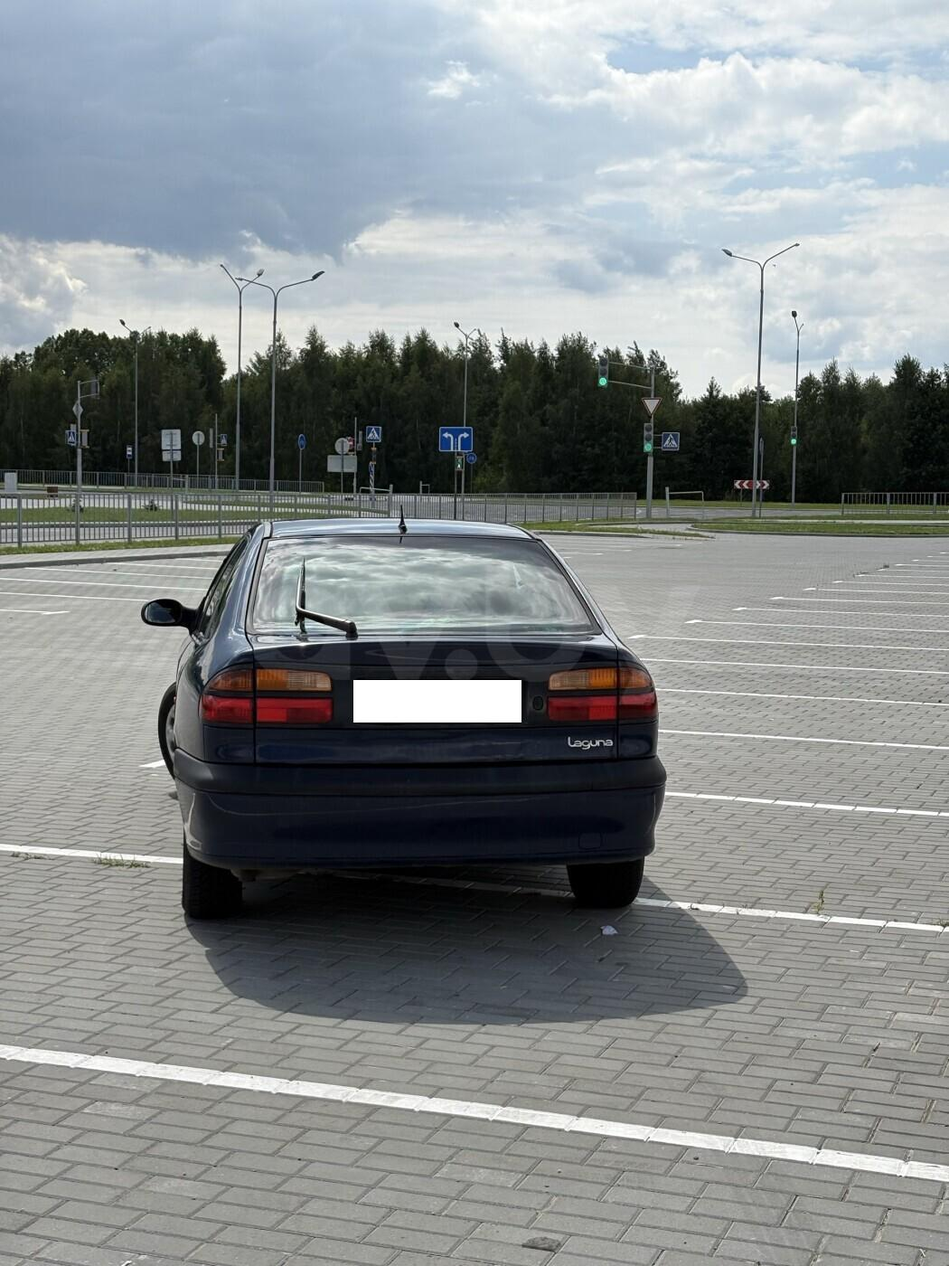Laguna_1998-2001: (148, 517, 678, 950)
